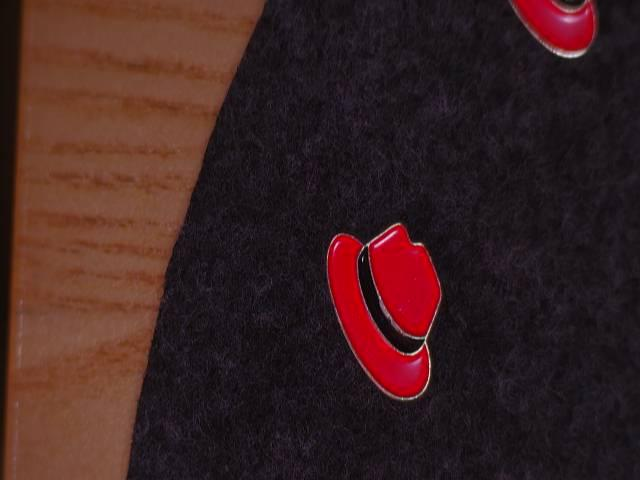Red-Hat: (294, 205, 479, 429), (487, 0, 621, 92)
